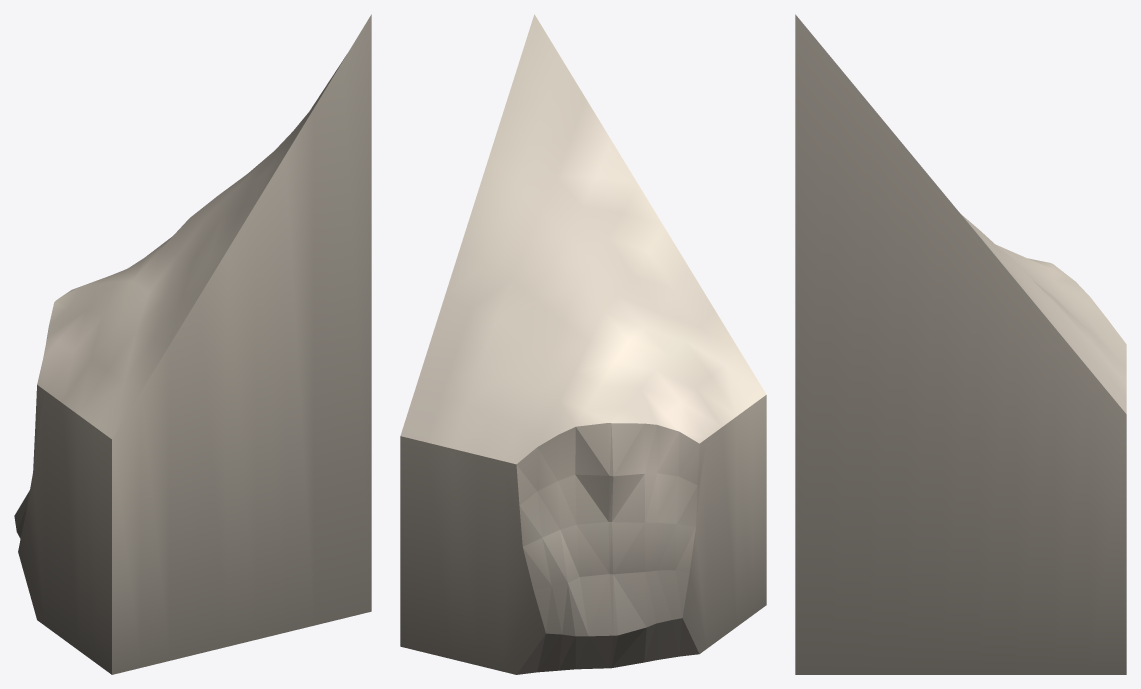
File: SM_VKI_Rock_Cave_CFCO_B.fbx
3 views of the same model, side by side, from view 1: azimuth 30°, elevation 25°; view 2: azimuth 150°, elevation 25°; view 3: azimuth 270°, elevation 25° (orthographic). The views are drawn at different scales.
Parts seen in each view (by area): view 1: SM_VKI_Rock_Cave_CFCO_B.001; view 2: SM_VKI_Rock_Cave_CFCO_B.001; view 3: SM_VKI_Rock_Cave_CFCO_B.001.
Boxes of the visible parts, bbox=[...] form: SM_VKI_Rock_Cave_CFCO_B.001: bbox=[14, 14, 371, 674]; SM_VKI_Rock_Cave_CFCO_B.001: bbox=[400, 14, 766, 674]; SM_VKI_Rock_Cave_CFCO_B.001: bbox=[795, 14, 1126, 674].
Size of the model in its own units: 1.5 by 3.3 by 1.5.
